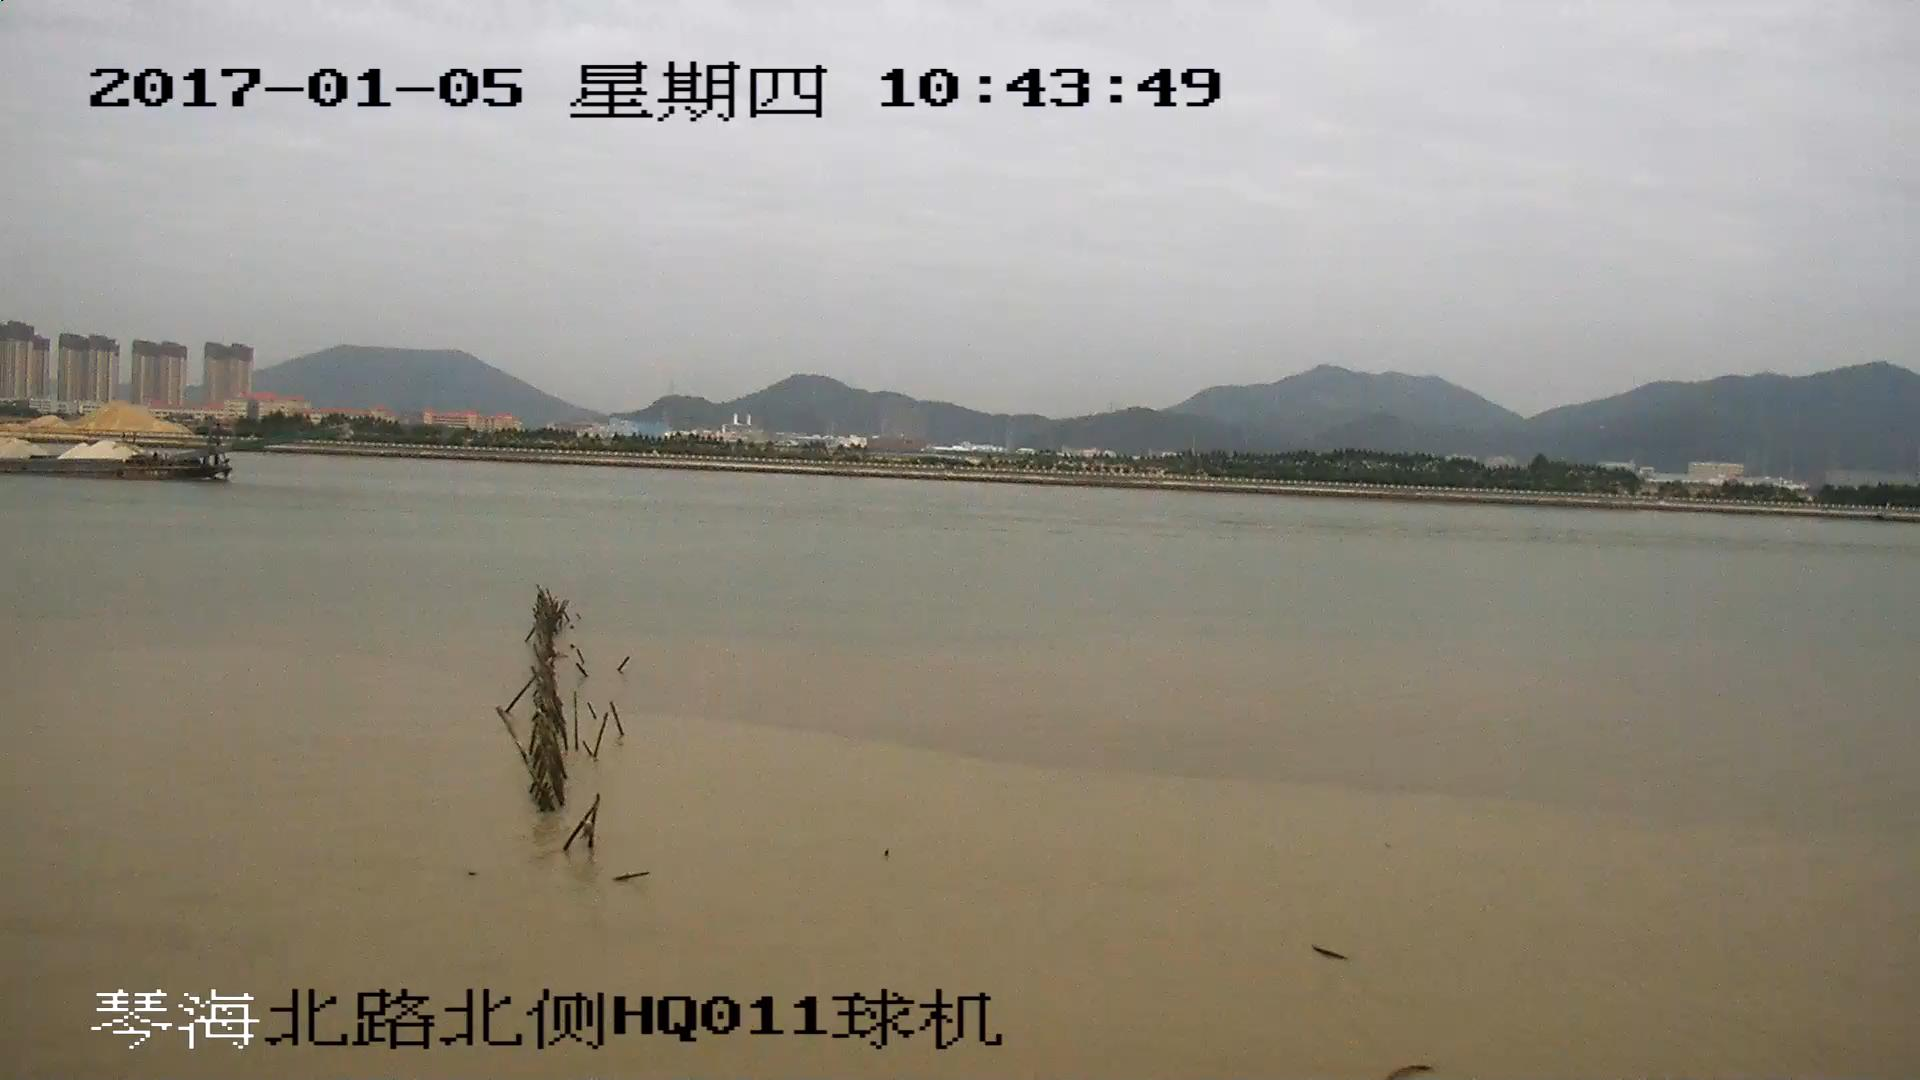ore carrier: (1, 428, 338, 479)
